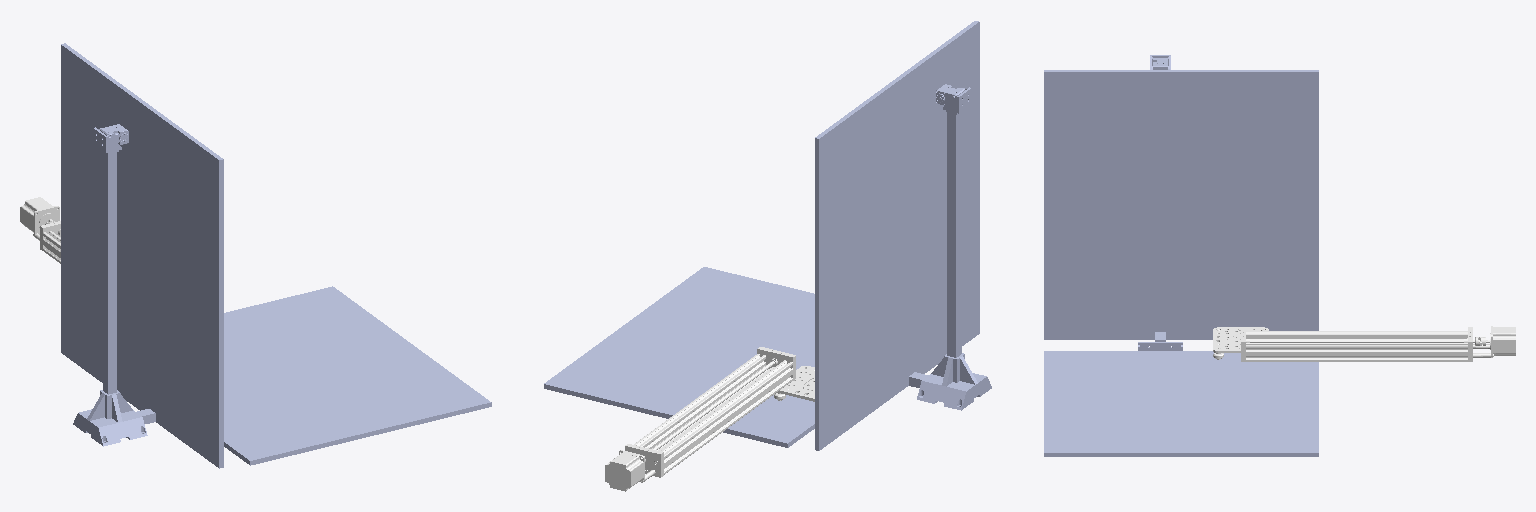
robot.urdf — scorpius_base_description:
<robot
  name="scorpius_base_description">
  <link
    name="base_link">
    <inertial>
      <origin
        xyz="-0.0430461816591447 -0.0999700015416253 -0.0252003882676626"
        rpy="0 0 0" />
      <mass
        value="0.695201759420563" />
      <inertia
        ixx="0.0292099358589963"
        ixy="-4.69872062623796E-07"
        ixz="-3.00386636532859E-08"
        iyy="0.000521513476559929"
        iyz="-0.000518776673898845"
        izz="0.0294377821647163" />
    </inertial>
    <visual>
      <origin
        xyz="0 0 0"
        rpy="0 0 0" />
      <geometry>
        <mesh
          filename="package://scorpius_base_description/meshes/base_link.STL" />
      </geometry>
      <material
        name="">
        <color
          rgba="1 1 1 1" />
      </material>
    </visual>
    <collision>
      <origin
        xyz="0 0 0"
        rpy="0 0 0" />
      <geometry>
        <mesh
          filename="package://scorpius_base_description/meshes/base_link.STL" />
      </geometry>
    </collision>
  </link>
  <link
    name="carriage_base">
    <inertial>
      <origin
        xyz="0.0678128630425798 0.000156693213847599 0.00906572332536677"
        rpy="0 0 0" />
      <mass
        value="0.112932852597131" />
      <inertia
        ixx="0.000168996514994476"
        ixy="-1.21595914488456E-08"
        ixz="-6.33431160390464E-07"
        iyy="0.000168948390924987"
        iyz="-8.8863162616862E-08"
        izz="0.000329383199257969" />
    </inertial>
    <visual>
      <origin
        xyz="0 0 0"
        rpy="0 0 0" />
      <geometry>
        <mesh
          filename="package://scorpius_base_description/meshes/carriage_base.STL" />
      </geometry>
      <material
        name="">
        <color
          rgba="1 1 1 1" />
      </material>
    </visual>
    <collision>
      <origin
        xyz="0 0 0"
        rpy="0 0 0" />
      <geometry>
        <mesh
          filename="package://scorpius_base_description/meshes/carriage_base.STL" />
      </geometry>
    </collision>
  </link>
  <joint
    name="carriage_base_joint"
    type="fixed">
    <origin
      xyz="-0.0430500000000007 0.0685000000000467 -0.0152999999999998"
      rpy="1.20412995427672E-14 2.61195978578556E-14 -1.57079632679491" />
    <parent
      link="base_link" />
    <child
      link="carriage_base" />
    <axis
      xyz="0 0 0" />
  </joint>
  <link
    name="camera_assembly">
    <inertial>
      <origin
        xyz="-0.0098633145561125 3.40033294206205E-05 -0.446175237077351"
        rpy="0 0 0" />
      <mass
        value="0.73261938874222" />
      <inertia
        ixx="0.0403482866621294"
        ixy="3.79021549751088E-08"
        ixz="0.000684917405988002"
        iyy="0.0411391594198208"
        iyz="-1.11174055524385E-05"
        izz="0.00144196755315276" />
    </inertial>
    <visual>
      <origin
        xyz="0 0 0"
        rpy="0 0 0" />
      <geometry>
        <mesh
          filename="package://scorpius_base_description/meshes/camera_assembly.STL" />
      </geometry>
      <material
        name="">
        <color
          rgba="0.792156862745098 0.819607843137255 0.933333333333333 1" />
      </material>
    </visual>
    <collision>
      <origin
        xyz="0 0 0"
        rpy="0 0 0" />
      <geometry>
        <mesh
          filename="package://scorpius_base_description/meshes/camera_assembly.STL" />
      </geometry>
    </collision>
  </link>
  <joint
    name="camera_assembly_joint"
    type="fixed">
    <origin
      xyz="-0.227150000000011 -0.181499999999967 0.584757142857134"
      rpy="2.58410166493983E-14 -1.20412995427671E-14 -1.97634413068826E-14" />
    <parent
      link="base_link" />
    <child
      link="camera_assembly" />
    <axis
      xyz="0 0 0" />
  </joint>
  <link
    name="camera">
    <inertial>
      <origin
        xyz="0.0460942312677116 5.89496362908663E-05 0.0120825271177475"
        rpy="0 0 0" />
      <mass
        value="0.0548652828884031" />
      <inertia
        ixx="6.99395203623227E-05"
        ixy="-9.65763596898107E-08"
        ixz="3.21146117466996E-08"
        iyy="6.26127944150973E-06"
        iyz="1.95459400048947E-09"
        izz="6.88438963587466E-05" />
    </inertial>
    <visual>
      <origin
        xyz="0 0 0"
        rpy="0 0 0" />
      <geometry>
        <mesh
          filename="package://scorpius_base_description/meshes/camera.STL" />
      </geometry>
      <material
        name="">
        <color
          rgba="0.792156862745098 0.819607843137255 0.933333333333333 1" />
      </material>
    </visual>
    <collision>
      <origin
        xyz="0 0 0"
        rpy="0 0 0" />
      <geometry>
        <mesh
          filename="package://scorpius_base_description/meshes/camera.STL" />
      </geometry>
    </collision>
  </link>
  <joint
    name="camera_joint"
    type="revolute">
    <origin
      xyz="0 0 0"
      rpy="0 0 -4.39523648562471E-46" />
    <parent
      link="camera_assembly" />
    <child
      link="camera" />
    <axis
      xyz="0 -1 0" />
  </joint>
  <link
    name="back_wall">
    <inertial>
      <origin
        xyz="0 -1.04083408558608E-17 0"
        rpy="0 0 0" />
      <mass
        value="4.12738428551396" />
      <inertia
        ixx="0.284640241971556"
        ixy="3.77542752078858E-20"
        ixz="3.58089755540341E-20"
        iyy="0.152460760227972"
        iyz="6.41182641657873E-18"
        izz="0.132248271481677" />
    </inertial>
    <visual>
      <origin
        xyz="0 0 0"
        rpy="0 0 0" />
      <geometry>
        <mesh
          filename="package://scorpius_base_description/meshes/back_wall.STL" />
      </geometry>
      <material
        name="">
        <color
          rgba="0.792156862745098 0.819607843137255 0.933333333333333 1" />
      </material>
    </visual>
    <collision>
      <origin
        xyz="0 0 0"
        rpy="0 0 0" />
      <geometry>
        <mesh
          filename="package://scorpius_base_description/meshes/back_wall.STL" />
      </geometry>
    </collision>
  </link>
  <joint
    name="back_wall_joint"
    type="fixed">
    <origin
      xyz="-0.148050000000007 -0.13349999999996 0.28515357141241"
      rpy="2.59405296280773E-14 -1.20412995427672E-14 -1.51190083205341E-14" />
    <parent
      link="base_link" />
    <child
      link="back_wall" />
    <axis
      xyz="0 0 0" />
  </joint>
  <link
    name="ground">
    <inertial>
      <origin
        xyz="0 -2.42861286636753E-17 0"
        rpy="0 0 0" />
      <mass
        value="3.379" />
      <inertia
        ixx="0.108268791666667"
        ixy="-5.18097717505661E-18"
        ixz="-6.7094514261586E-20"
        iyy="0.0836654479166667"
        iyz="-6.15510608338125E-20"
        izz="0.191877922916667" />
    </inertial>
    <visual>
      <origin
        xyz="0 0 0"
        rpy="0 0 0" />
      <geometry>
        <mesh
          filename="package://scorpius_base_description/meshes/ground.STL" />
      </geometry>
      <material
        name="">
        <color
          rgba="0.792156862745098 0.819607843137255 0.933333333333333 1" />
      </material>
    </visual>
    <collision>
      <origin
        xyz="0 0 0"
        rpy="0 0 0" />
      <geometry>
        <mesh
          filename="package://scorpius_base_description/meshes/ground.STL" />
      </geometry>
    </collision>
  </link>
  <joint
    name="ground_joint"
    type="fixed">
    <origin
      xyz="0.189449999999997 -0.133499999999956 -0.0527000000000023"
      rpy="2.61195978578556E-14 -1.20412995427672E-14 -1.51190083205341E-14" />
    <parent
      link="base_link" />
    <child
      link="ground" />
    <axis
      xyz="0 0 0" />
  </joint>
</robot>

--- What the picture shows (computed from the rendered views, not written in the file) ---
The picture shows the robot from 3 angles, left to right: view 1: azimuth 30°, elevation 25°; view 2: azimuth 150°, elevation 25°; view 3: azimuth 270°, elevation 25°; orthographic projection.
Model scorpius_base_description with 6 links and 5 joints (1 revolute, 4 fixed), rooted at base_link, posed every joint at zero.
Links seen in each view (by area): view 1: back_wall, ground, camera_assembly, base_link; view 2: back_wall, ground, base_link, camera_assembly, carriage_base; view 3: back_wall, ground, base_link, carriage_base, camera_assembly.
Link boxes in pixels (left/top/right/bottom): back_wall: left=61, top=43, right=223, bottom=468; ground: left=224, top=286, right=491, bottom=465; camera_assembly: left=73, top=124, right=155, bottom=446; base_link: left=20, top=197, right=60, bottom=263; back_wall: left=815, top=21, right=979, bottom=450; ground: left=544, top=267, right=814, bottom=447; base_link: left=605, top=347, right=795, bottom=491; camera_assembly: left=909, top=84, right=991, bottom=410; carriage_base: left=774, top=366, right=814, bottom=401; back_wall: left=1044, top=70, right=1318, bottom=339; ground: left=1044, top=351, right=1318, bottom=456; base_link: left=1241, top=326, right=1515, bottom=361; carriage_base: left=1213, top=327, right=1268, bottom=359; camera_assembly: left=1138, top=55, right=1182, bottom=350.
Bounding box of the posed robot: 0.7601 × 1.06 × 0.6757 m (x, y, z).
5 mesh visuals loaded from 6 distinct referenced files (5 binary STL); not drawn: 1 (reference not matched to a file when rendering).